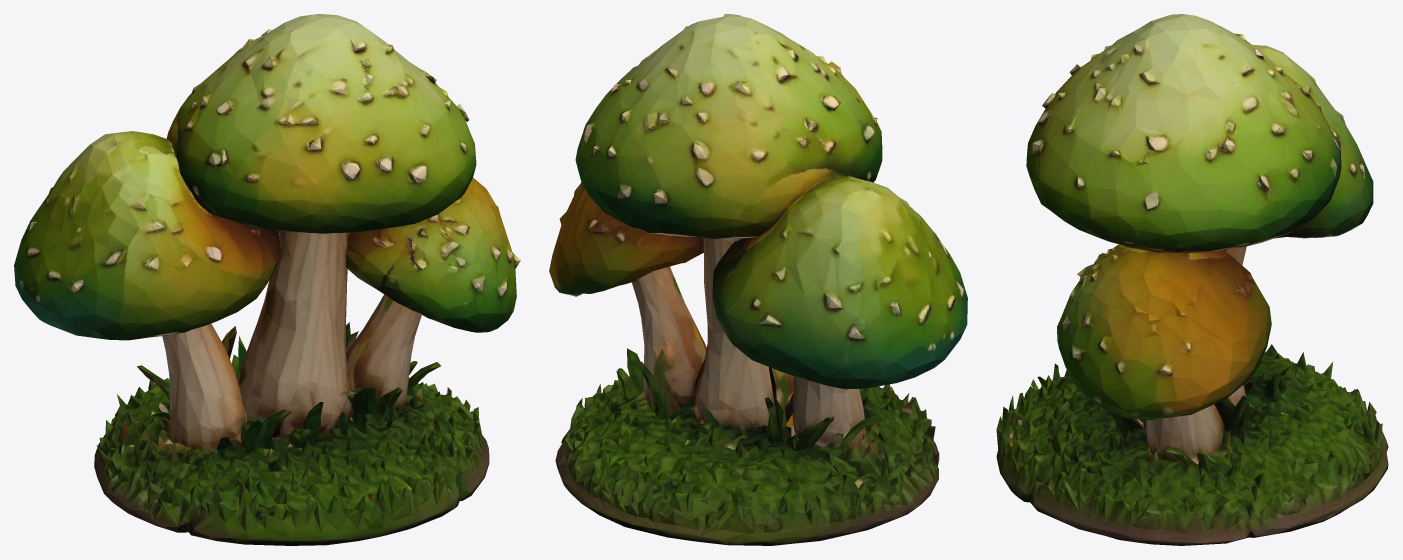
Rendered from mushroom_cluster.glb.
The picture shows the model from 3 angles, left to right: view 1: azimuth 30°, elevation 25°; view 2: azimuth 150°, elevation 25°; view 3: azimuth 270°, elevation 25°; orthographic projection. The views are drawn at different scales.
Size of the model in its own units: 1.97 by 1.94 by 1.53.
Materials: 1 (1 with a texture image).
